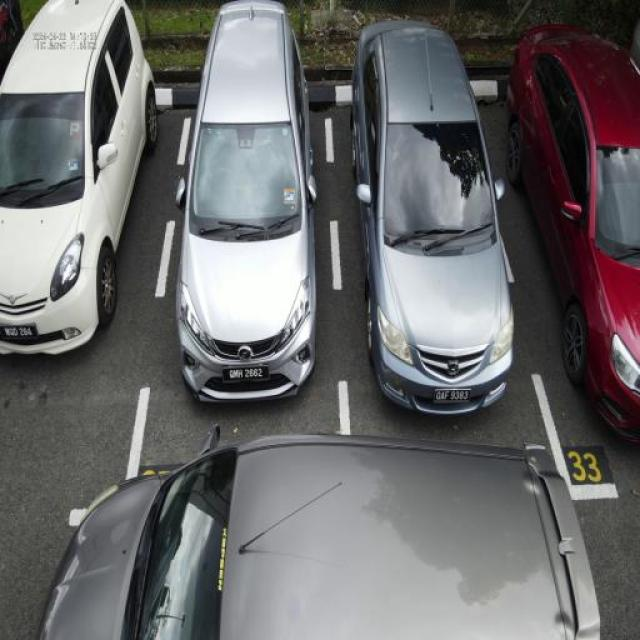Legalparking: (350, 22, 512, 412), (176, 0, 316, 401), (0, 0, 158, 352), (508, 24, 639, 440)
illegalparking: (39, 428, 599, 639)
